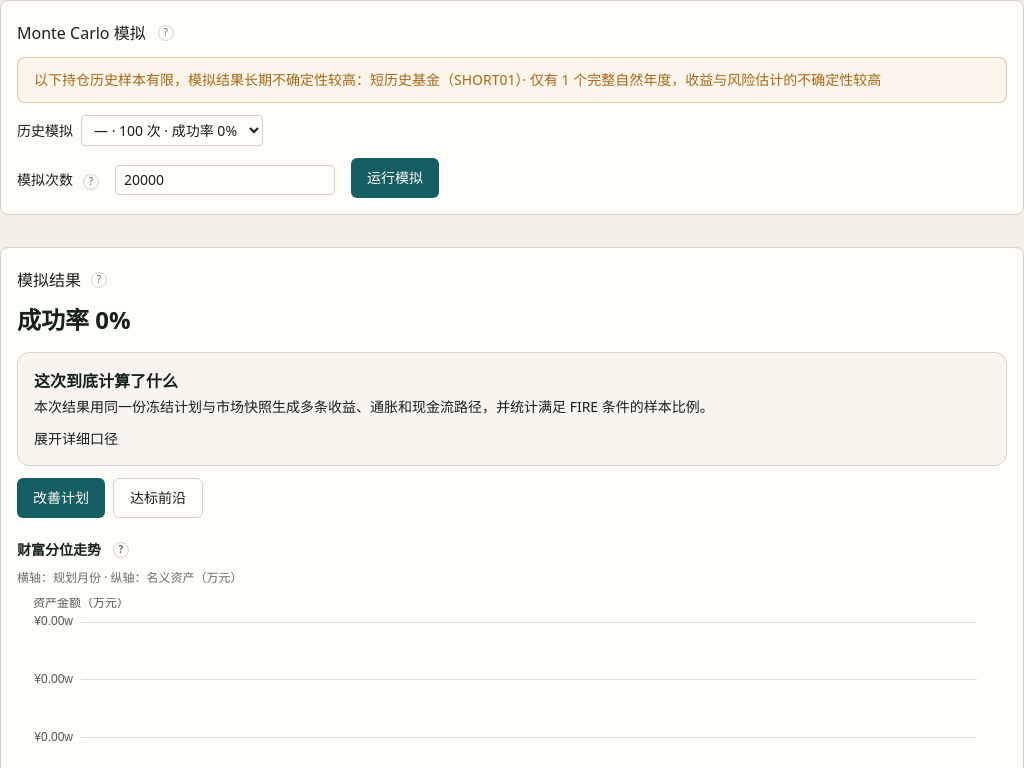
Test: AnalysisPage zero success › disables stress and sensitivity while simulation job is busy
Click the button "运行模拟": (395, 178) [351,158,439,198]
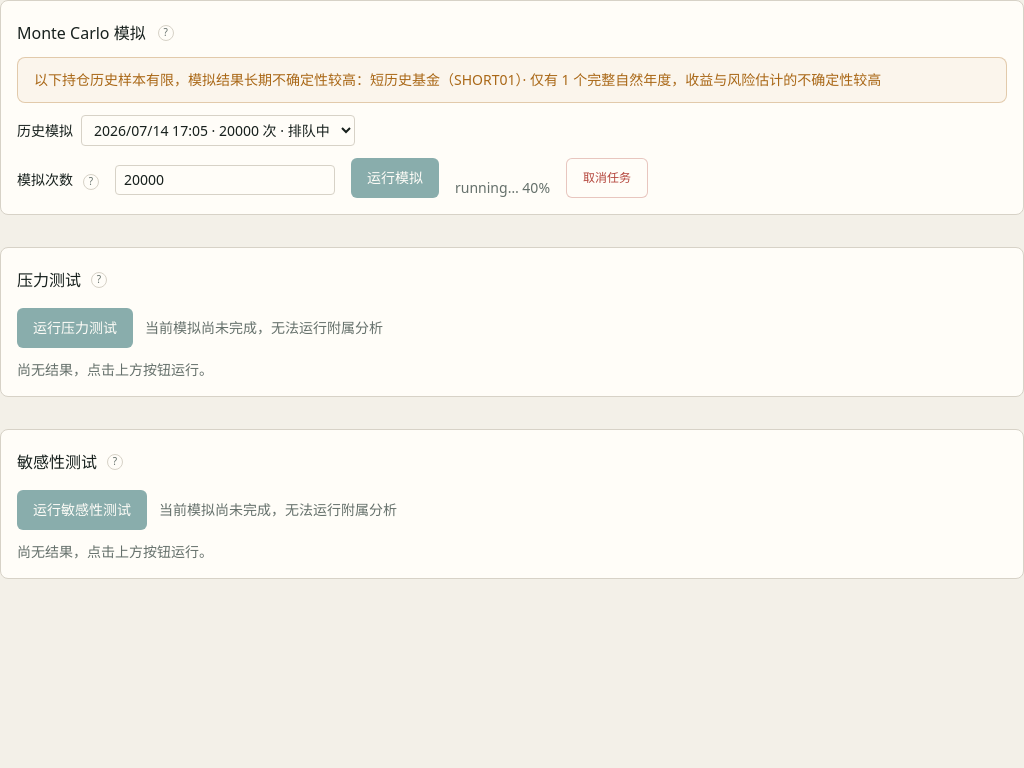
Expected: the button "运行压力测试" is disabled, [17,308,133,348]
Expected: the button "运行敏感性测试" is disabled, [17,490,147,530]
Expected: the button "运行模拟" is disabled, [351,158,439,198]
